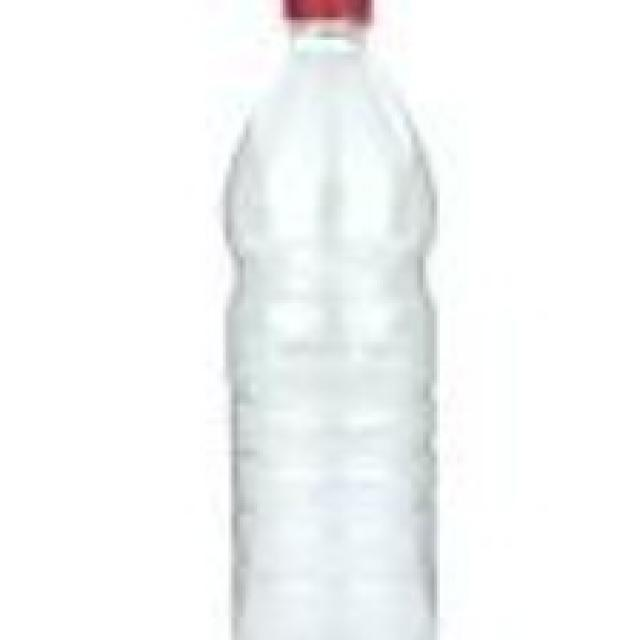plastic_bottle: (205, 1, 462, 640)
